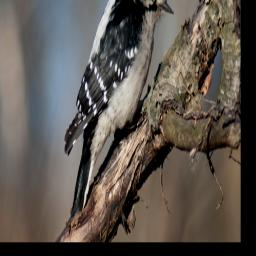Woodpecker: (64, 0, 177, 225)
